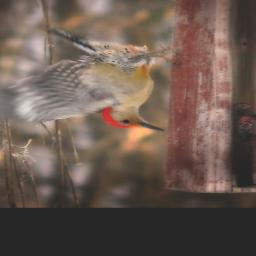Woodpecker: (0, 27, 167, 134)
